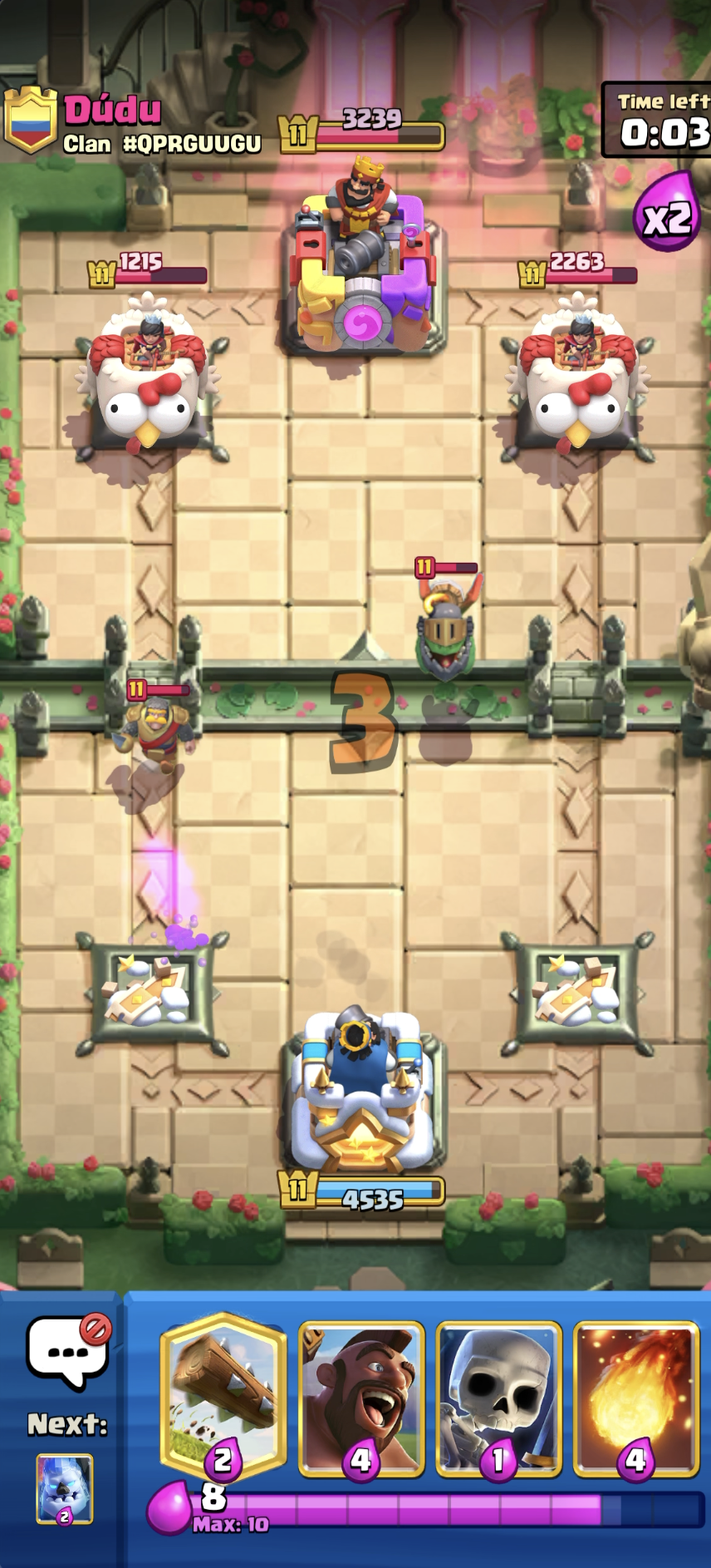inferno-dragon: (398, 544, 492, 691)
knight: (103, 672, 209, 785)
